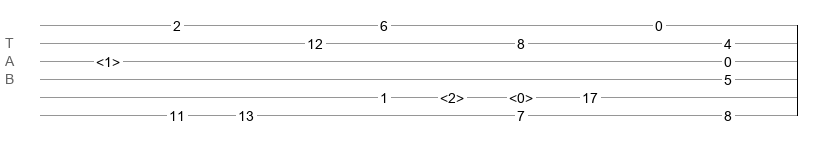0: (655, 18, 663, 28), (724, 54, 732, 64)
1: (380, 90, 388, 100)
11: (169, 108, 185, 118)
12: (307, 36, 323, 46)
13: (238, 108, 254, 118)
17: (582, 90, 598, 100)
2: (173, 18, 181, 28)
4: (724, 36, 732, 46)
5: (724, 72, 732, 82)
6: (380, 18, 388, 28)
7: (517, 108, 525, 118)
8: (517, 36, 525, 46), (724, 108, 732, 118)
harmonic: (96, 54, 120, 64), (440, 90, 464, 100), (509, 90, 533, 100)
